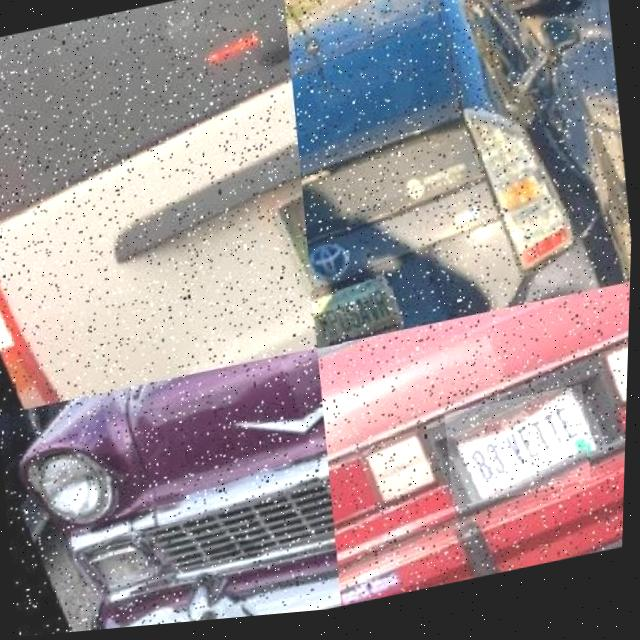LicensePlate: (451, 399, 591, 513), (313, 281, 399, 355)
